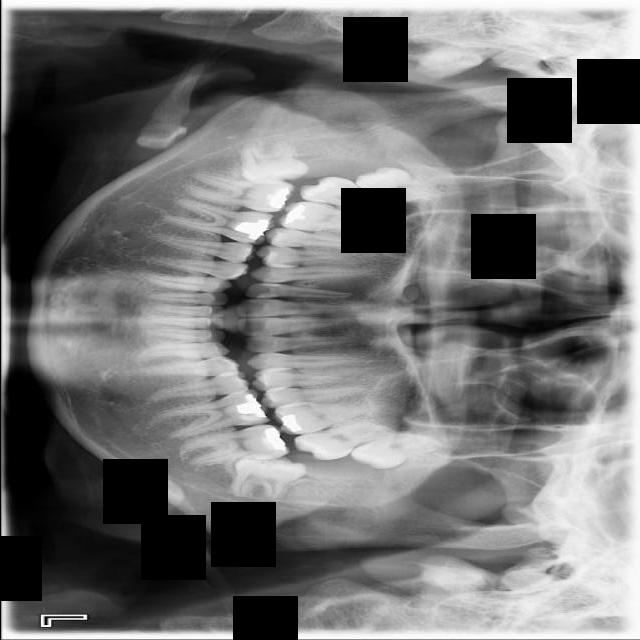3M ESPE Implant: (350, 160, 439, 209)
52: (217, 385, 270, 436), (219, 205, 277, 249), (273, 396, 326, 441), (235, 420, 289, 463), (276, 199, 336, 232), (240, 178, 295, 213)
73: (48, 574, 68, 582)
BioHorizons Implant: (292, 416, 400, 465)
BioLife Implant: (345, 428, 441, 476)
Biomet 3i Implant: (229, 454, 306, 502)
Blue Sky Bio Implant: (175, 423, 288, 468)
Caries: (296, 171, 405, 216)
Implant: (183, 170, 296, 216)
Keystone Dental Implant: (239, 140, 307, 183)
